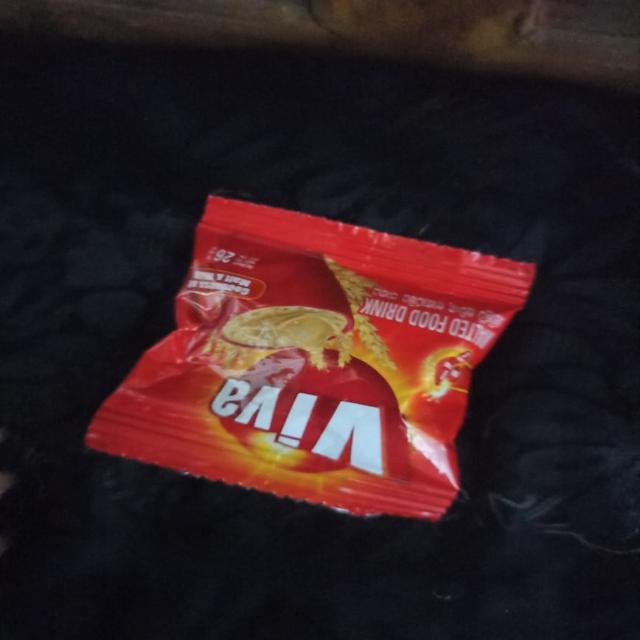Viva Malt: (106, 160, 495, 542)
